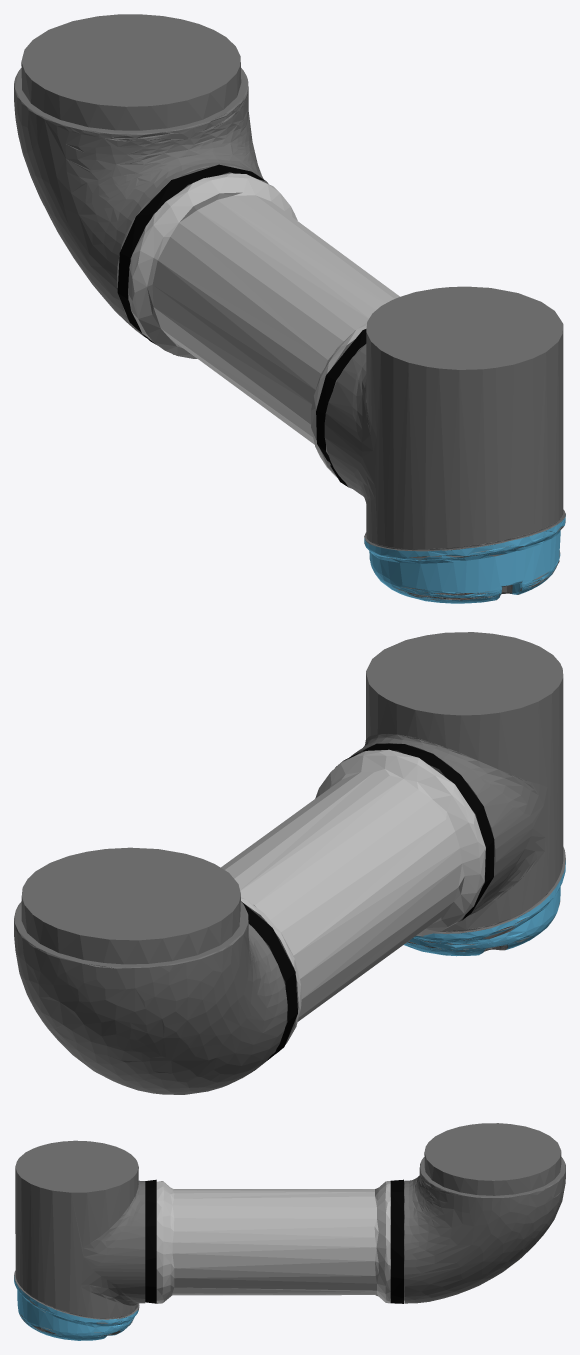
Rendered from forearm.fbx.
3 views of the same model, one above another, from view 1: azimuth 30°, elevation 25°; view 2: azimuth 150°, elevation 25°; view 3: azimuth 270°, elevation 25° (orthographic). The views are drawn at different scales.
Parts seen in each view (by area): view 1: forearm; view 2: forearm; view 3: forearm.
Part boxes in pixels (x1=…): forearm: x1=14, y1=14, x2=565, y2=603; forearm: x1=14, y1=632, x2=565, y2=1094; forearm: x1=14, y1=1123, x2=565, y2=1340.
Size of the model in its own units: 7.5 by 9.71 by 28.28.
